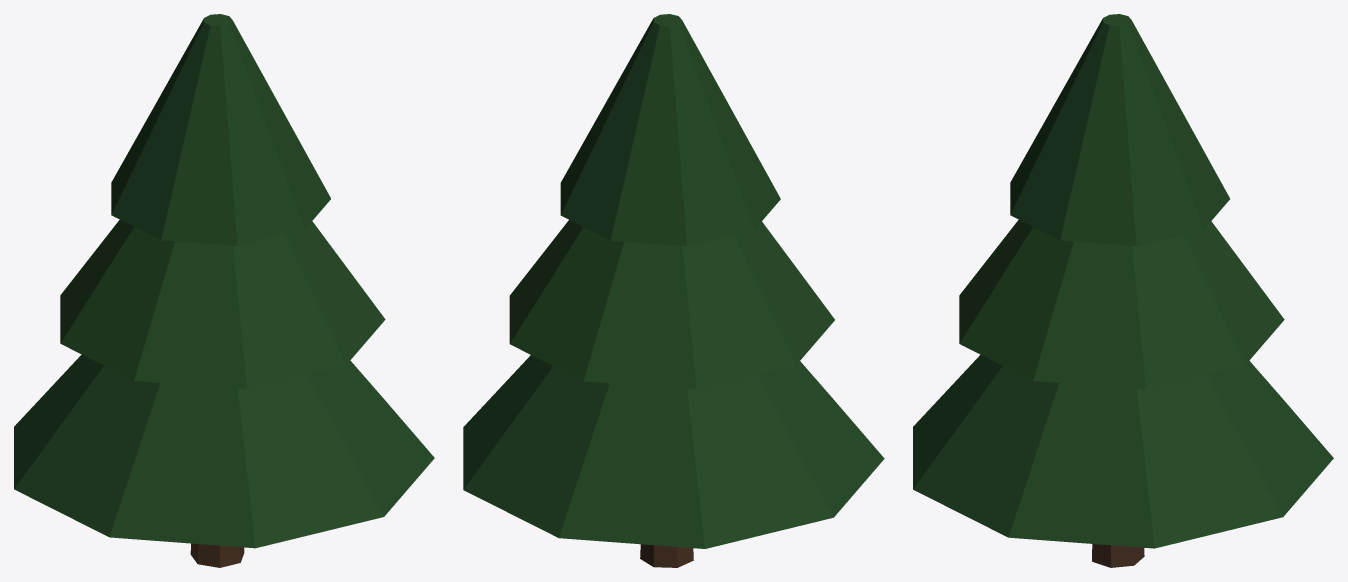
The model's file is TreePine.glb.
3 views of the same model, side by side, from view 1: azimuth 30°, elevation 25°; view 2: azimuth 150°, elevation 25°; view 3: azimuth 270°, elevation 25° (orthographic).
Visible parts, largest first — view 1: Needles, Trunk; view 2: Needles, Trunk; view 3: Needles, Trunk.
Part boxes in pixels (left/top/right/bottom): Needles: left=14, top=14, right=434, bottom=548; Trunk: left=190, top=543, right=244, bottom=567; Needles: left=463, top=14, right=884, bottom=548; Trunk: left=640, top=544, right=693, bottom=567; Needles: left=913, top=14, right=1333, bottom=548; Trunk: left=1092, top=544, right=1144, bottom=567.
Bounding box in the file's own units: 4.33 × 6 × 4.27.
